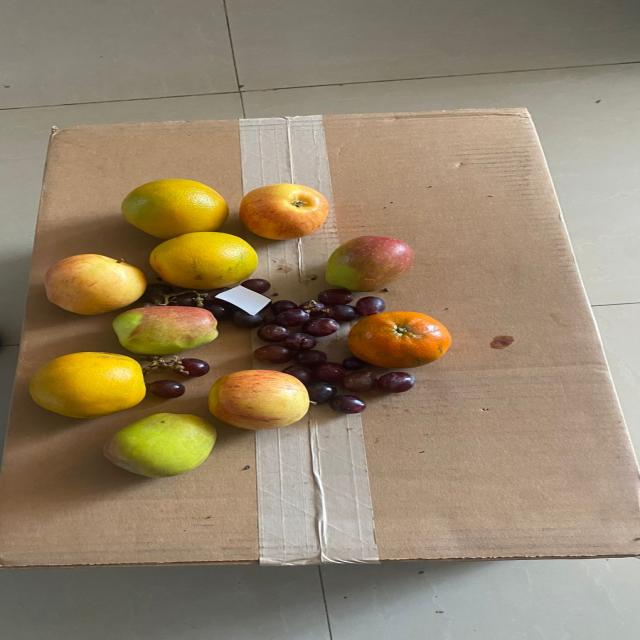hoja: (223, 286, 264, 316)
